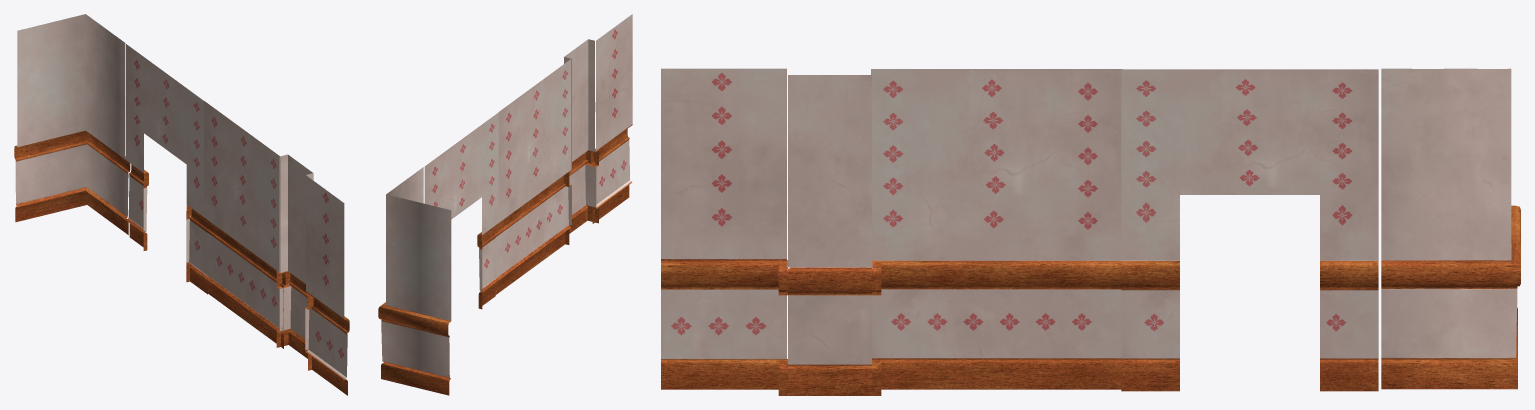
The model's file is interiorWalls.fbx.
3 views of the same model, side by side, from view 1: azimuth 30°, elevation 25°; view 2: azimuth 150°, elevation 25°; view 3: azimuth 270°, elevation 25° (orthographic). The views are drawn at different scales.
Parts seen in each view (by area): view 1: InteriorWall_corner, InteriorWall_normal, Interior_wall_doorEntrance, InteriorWall_single, InteriorWall_column; view 2: InteriorWall_normal, InteriorWall_corner, Interior_wall_doorEntrance, InteriorWall_single, InteriorWall_column; view 3: InteriorWall_normal, Interior_wall_doorEntrance, InteriorWall_corner, InteriorWall_single, InteriorWall_column.
Part boxes in pixels (left/top/right/bottom): InteriorWall_corner: left=14, top=14, right=130, bottom=234; InteriorWall_normal: left=204, top=101, right=285, bottom=348; Interior_wall_doorEntrance: left=126, top=44, right=208, bottom=294; InteriorWall_single: left=306, top=175, right=349, bottom=395; InteriorWall_column: left=276, top=154, right=313, bottom=370; InteriorWall_normal: left=494, top=59, right=571, bottom=295; InteriorWall_corner: left=378, top=167, right=451, bottom=395; Interior_wall_doorEntrance: left=424, top=112, right=498, bottom=309; InteriorWall_single: left=591, top=14, right=632, bottom=223; InteriorWall_column: left=563, top=39, right=598, bottom=244; InteriorWall_normal: left=871, top=69, right=1122, bottom=389; Interior_wall_doorEntrance: left=1121, top=69, right=1378, bottom=391; InteriorWall_corner: left=1381, top=68, right=1520, bottom=389; InteriorWall_single: left=661, top=68, right=786, bottom=389; InteriorWall_column: left=778, top=75, right=881, bottom=395.
Size of the model in its own units: 3.06 by 7 by 17.06.
